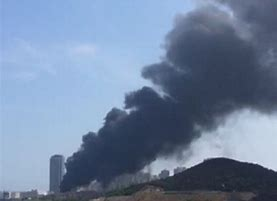smoke: (60, 1, 273, 189)
